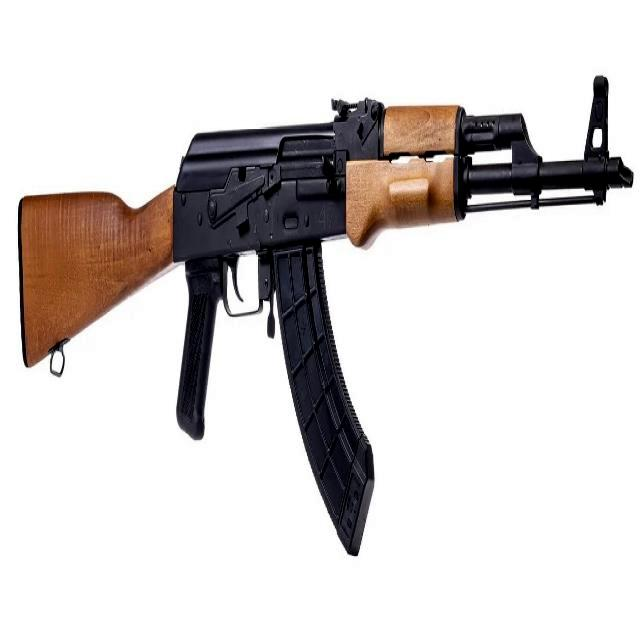ax: (18, 64, 640, 561)
